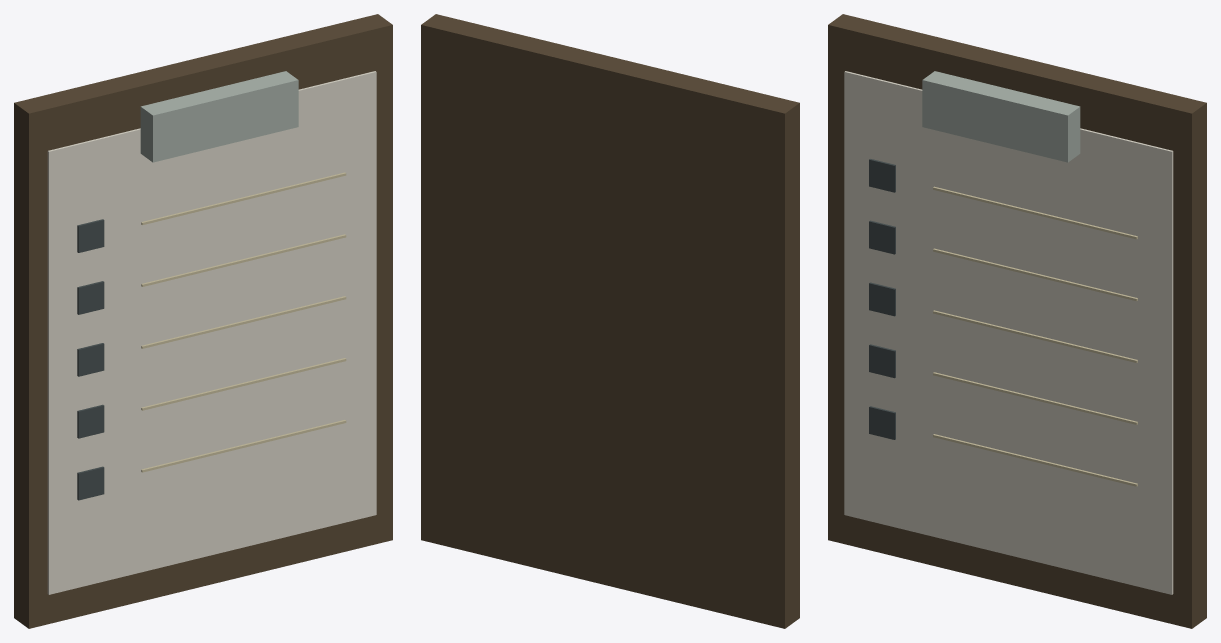
The model's file is blender_clipboards_1.glb.
3 renders of one model, left to right at view 1: azimuth 30°, elevation 25°; view 2: azimuth 150°, elevation 25°; view 3: azimuth 330°, elevation 25°, orthographic.
Parts seen in each view (by area): view 1: blender_clipboards_1; view 2: blender_clipboards_1; view 3: blender_clipboards_1.
Boxes of the visible parts, <box> form: blender_clipboards_1: <box>14,14,392,628</box>; blender_clipboards_1: <box>421,14,799,628</box>; blender_clipboards_1: <box>828,14,1206,628</box>.
Size of the model in its own units: 0.17 by 0.23 by 0.024.
Materials: 1 (1 with a texture image).
